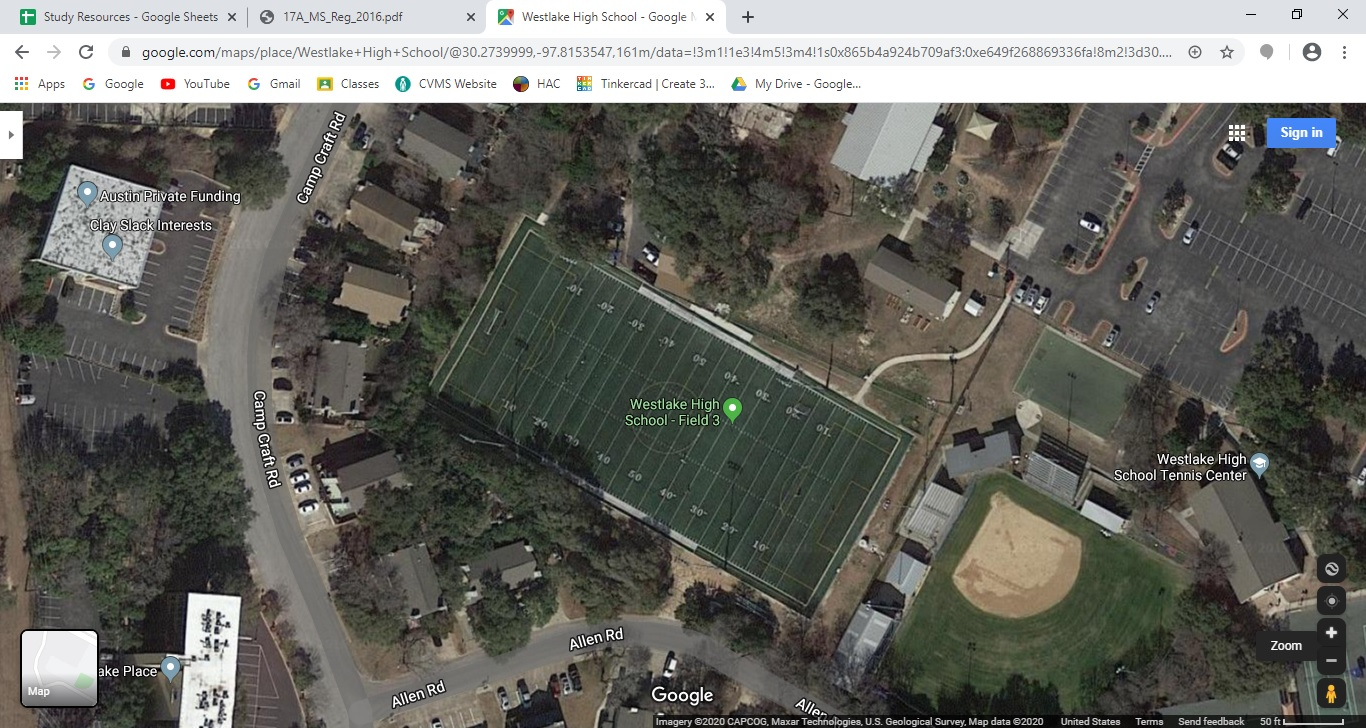baseball: (922, 458, 1224, 702)
football: (365, 182, 905, 632)
